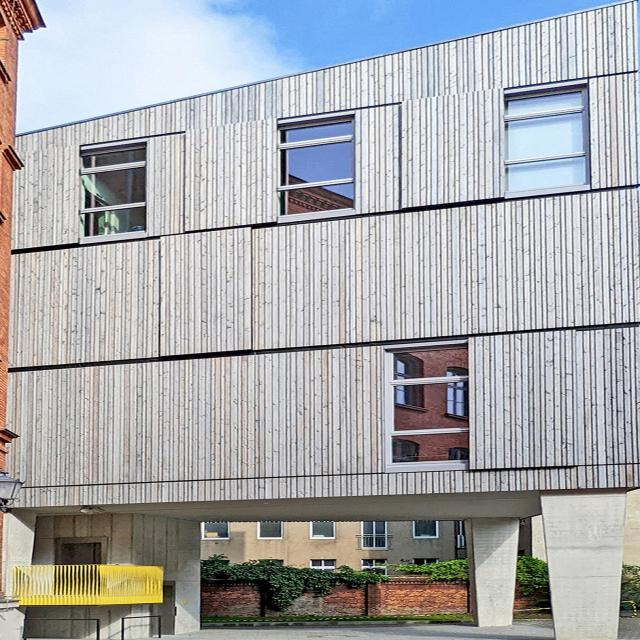Railing: (18, 563, 157, 605)
plant: (201, 552, 386, 610), (397, 560, 473, 587)
wall: (16, 0, 640, 640)
windows: (373, 340, 464, 473), (499, 84, 591, 194), (274, 114, 356, 222), (81, 139, 149, 240)
